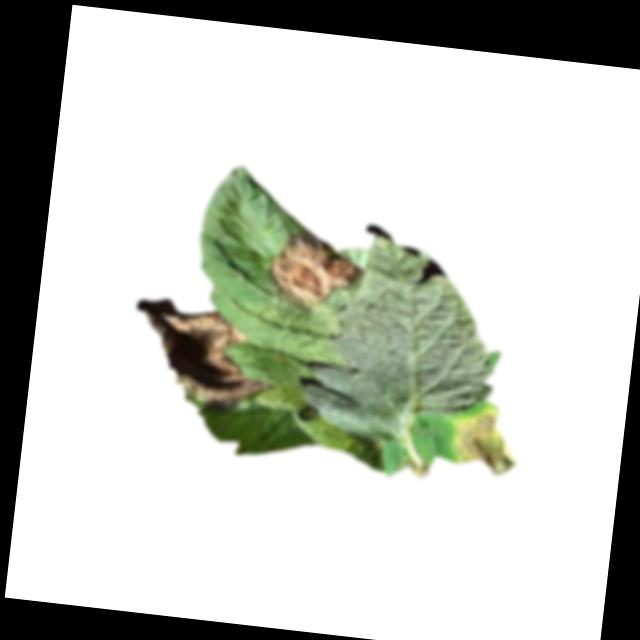Late_blight: (126, 295, 283, 415), (265, 224, 367, 315), (448, 403, 528, 479), (394, 455, 432, 482)
